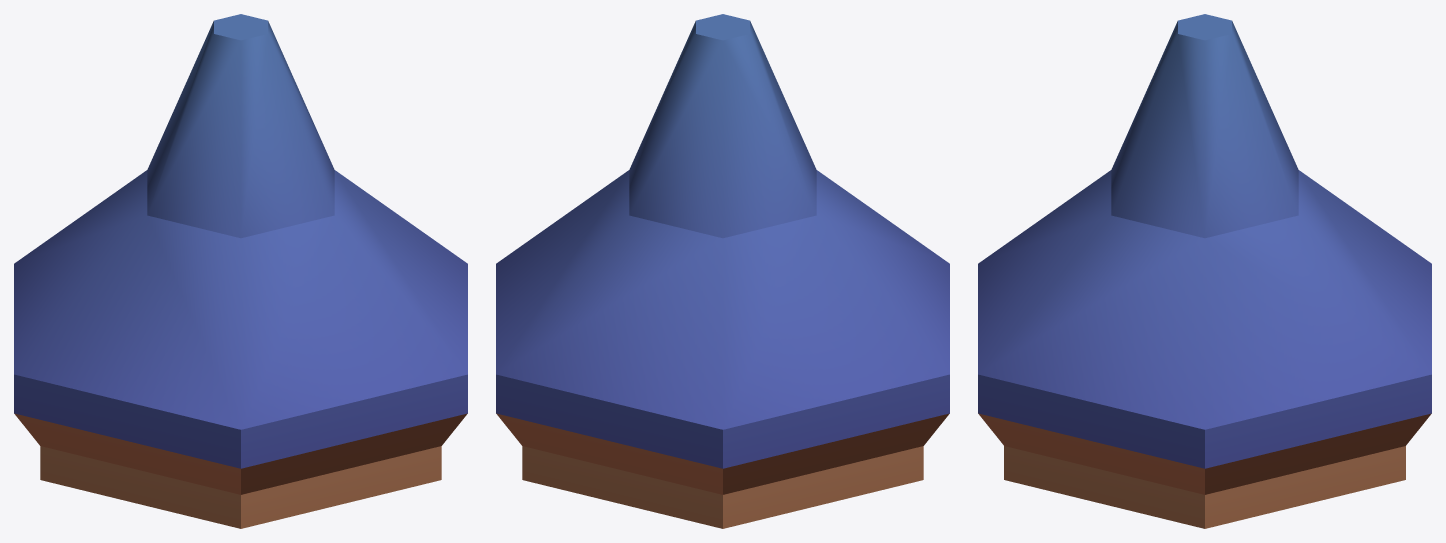
The model's file is castle-tower-hexagon-roof.glb.
3 renders of one model, left to right at view 1: azimuth 30°, elevation 25°; view 2: azimuth 150°, elevation 25°; view 3: azimuth 270°, elevation 25°, orthographic.
Visible parts, largest first — view 1: tower-hexagon-roof; view 2: tower-hexagon-roof; view 3: tower-hexagon-roof.
Boxes of the visible parts, x1,y1,x2,y2 form: tower-hexagon-roof: [14, 14, 467, 528]; tower-hexagon-roof: [496, 14, 949, 528]; tower-hexagon-roof: [978, 14, 1431, 528].
Size of the model in its own units: 0.9763 by 0.83 by 0.8456.
